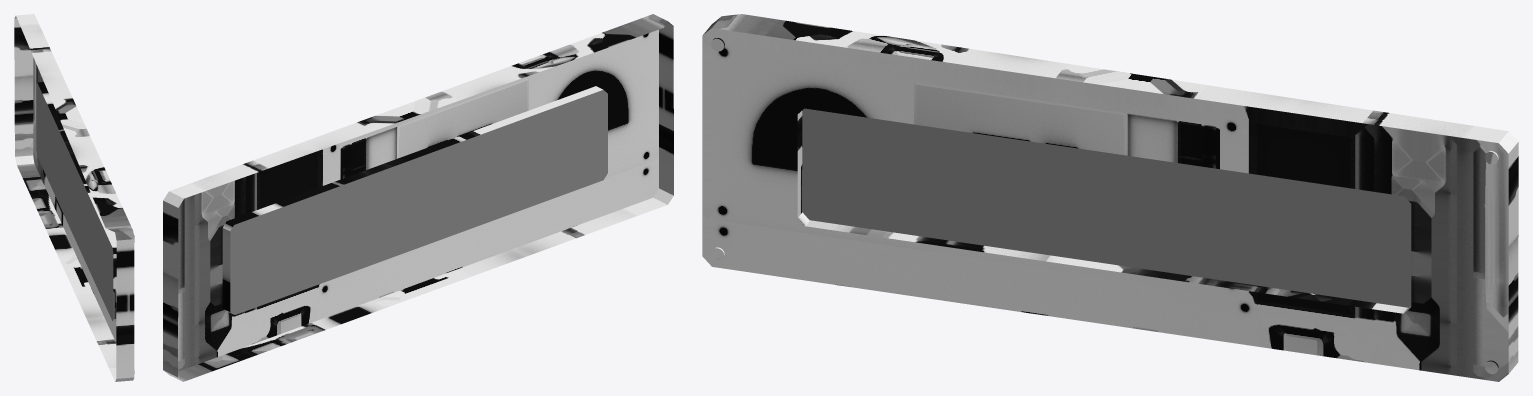
File: SpectrometerPlate.fbx
3 renders of one model, left to right at view 1: azimuth 30°, elevation 25°; view 2: azimuth 150°, elevation 25°; view 3: azimuth 270°, elevation 25°, orthographic. The views are drawn at different scales.
Parts seen in each view (by area): view 1: spectromMod_v1; view 2: spectromMod_v1; view 3: spectromMod_v1.
Boxes of the visible parts, x1=… form: spectromMod_v1: x1=14, y1=14, x2=134, y2=381; spectromMod_v1: x1=163, y1=14, x2=673, y2=381; spectromMod_v1: x1=702, y1=14, x2=1518, y2=381.
Size of the model in its own units: 1.07 by 0.9115 by 2.82.
